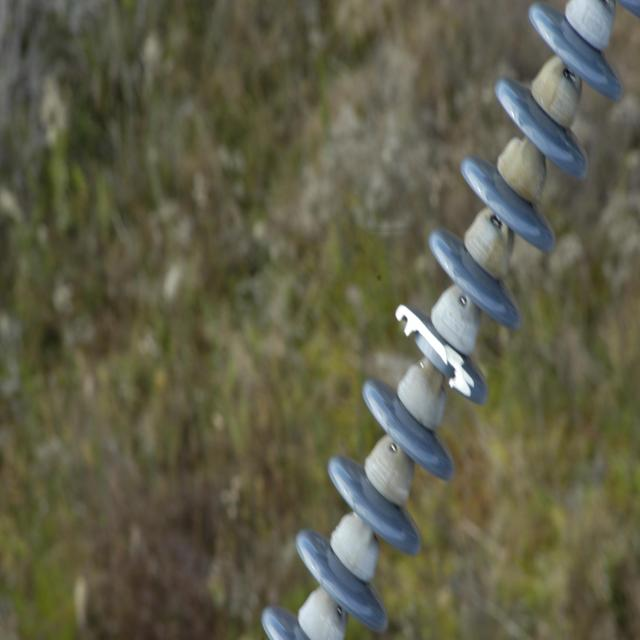broken: (394, 303, 472, 401)
insulator: (258, 1, 640, 638)
